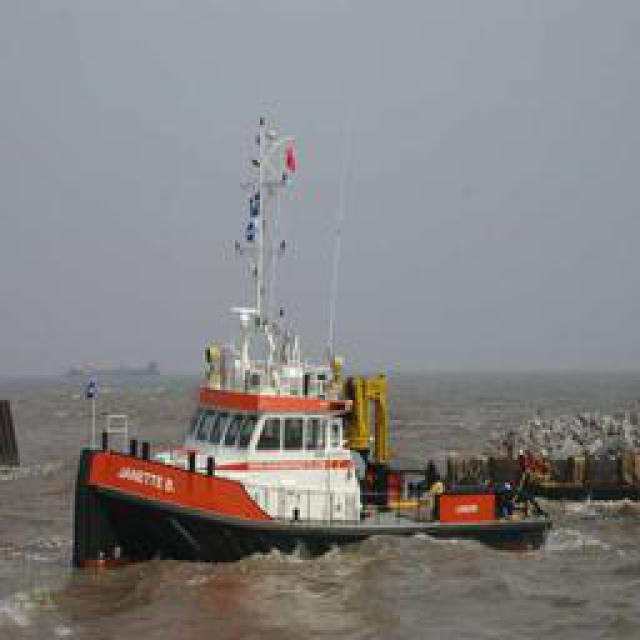Ship: (68, 226, 563, 551)
